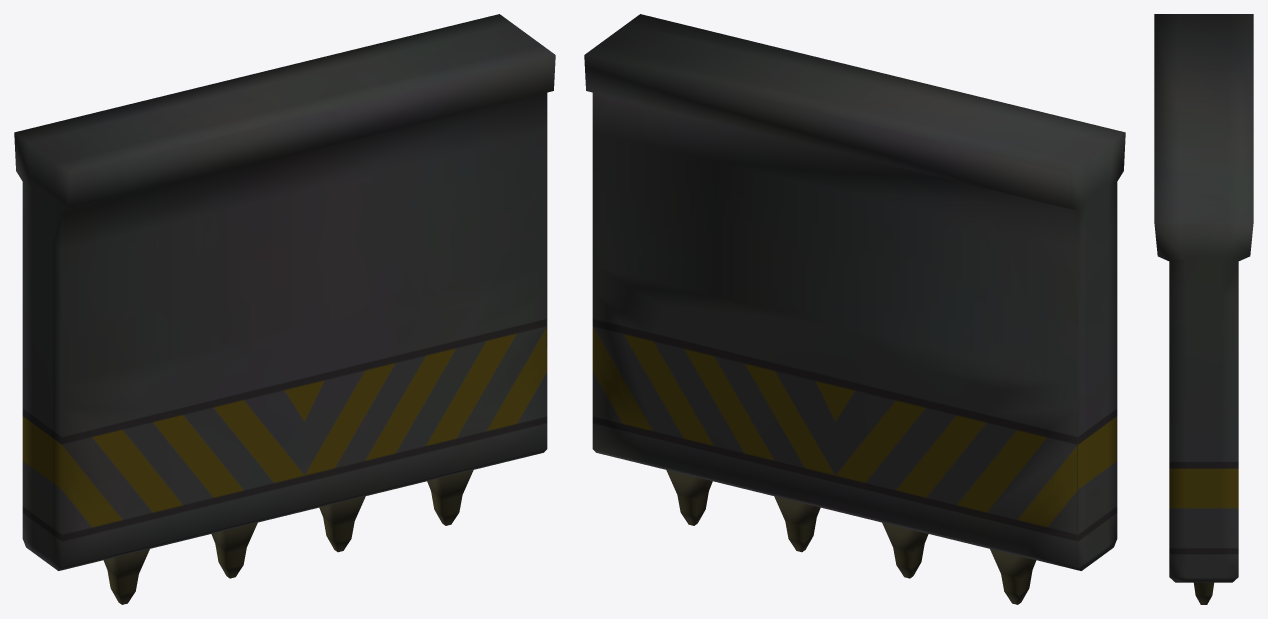
The model's file is Gate.glb.
3 renders of one model, left to right at view 1: azimuth 30°, elevation 25°; view 2: azimuth 150°, elevation 25°; view 3: azimuth 270°, elevation 25°, orthographic. The views are drawn at different scales.
Parts seen in each view (by area): view 1: Cube.001; view 2: Cube.001; view 3: Cube.001.
Boxes of the visible parts, x1,y1,x2,y2 form: Cube.001: (14, 14, 555, 604); Cube.001: (584, 14, 1125, 604); Cube.001: (1154, 14, 1253, 604).
Size of the model in its own units: 6 by 5.55 by 1.2.
1 material, 1 textured.
